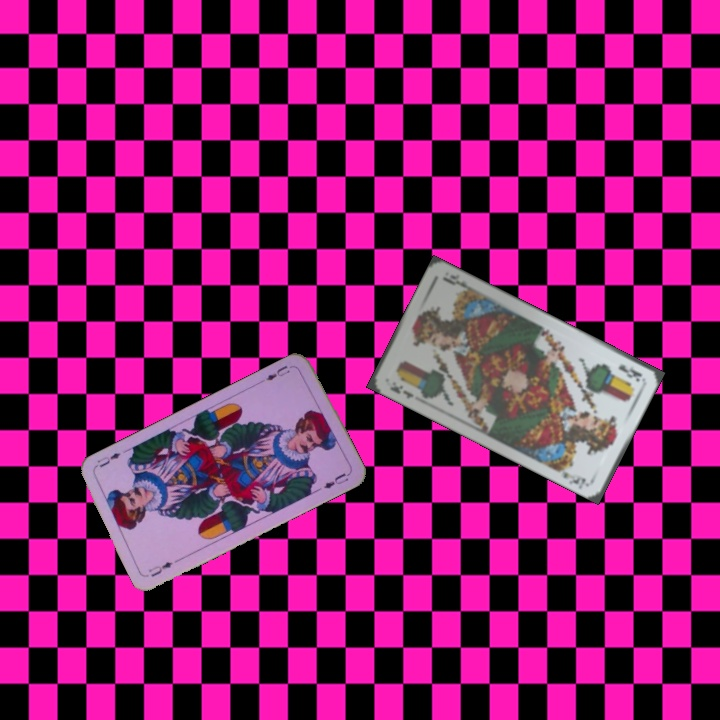EK: (614, 361, 645, 384), (385, 381, 416, 402)
EU: (262, 361, 296, 383), (144, 558, 175, 579)
